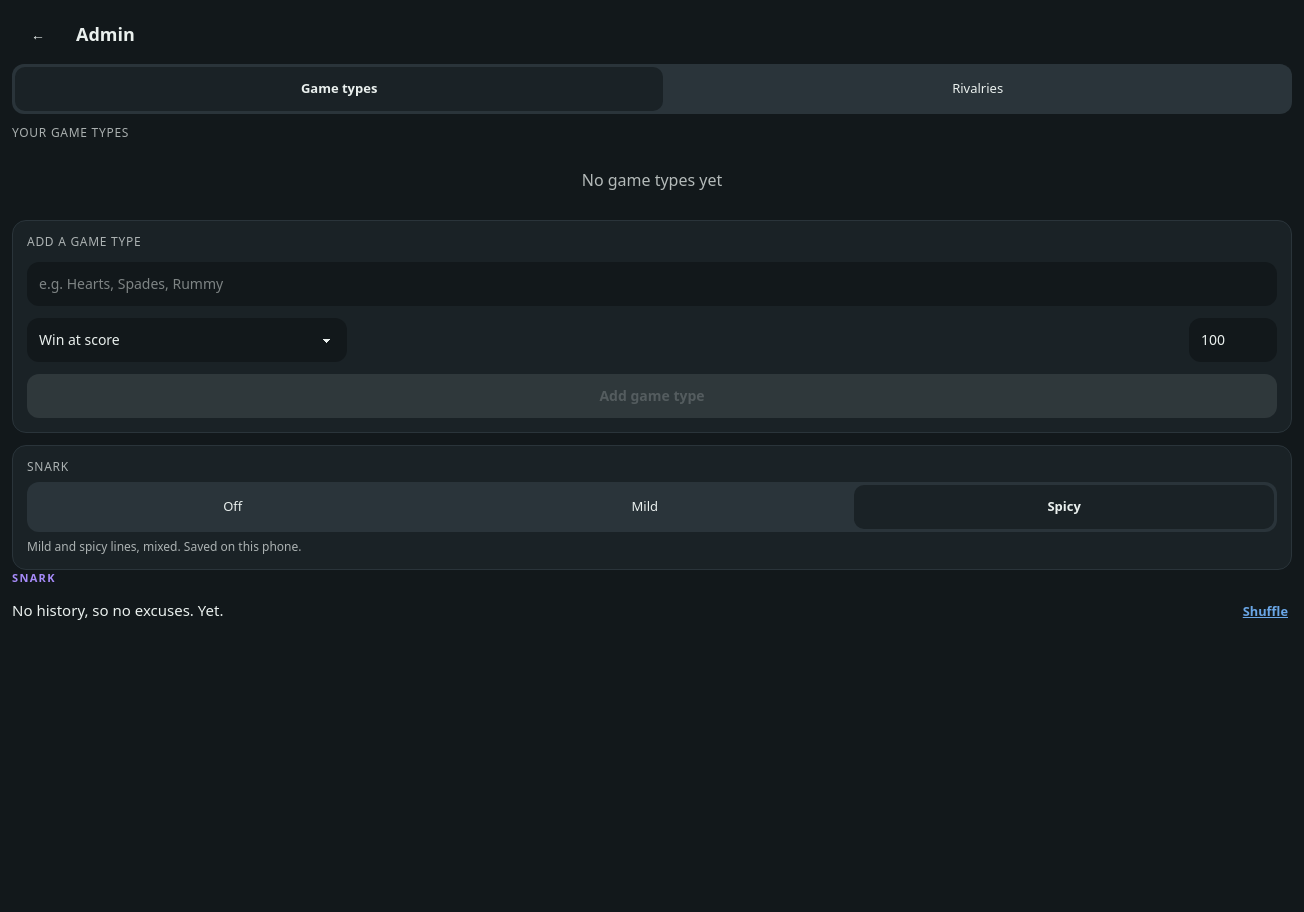
Test: Admin snark setting › changes the setting everywhere and saves it on the phone
The image size is (1304, 912).
What coordinates should you click on to do the following:
click the radio button labelled "Off"
I would click on:
 (233, 507)
Its box is top-left (30, 485), bottom-right (435, 529).
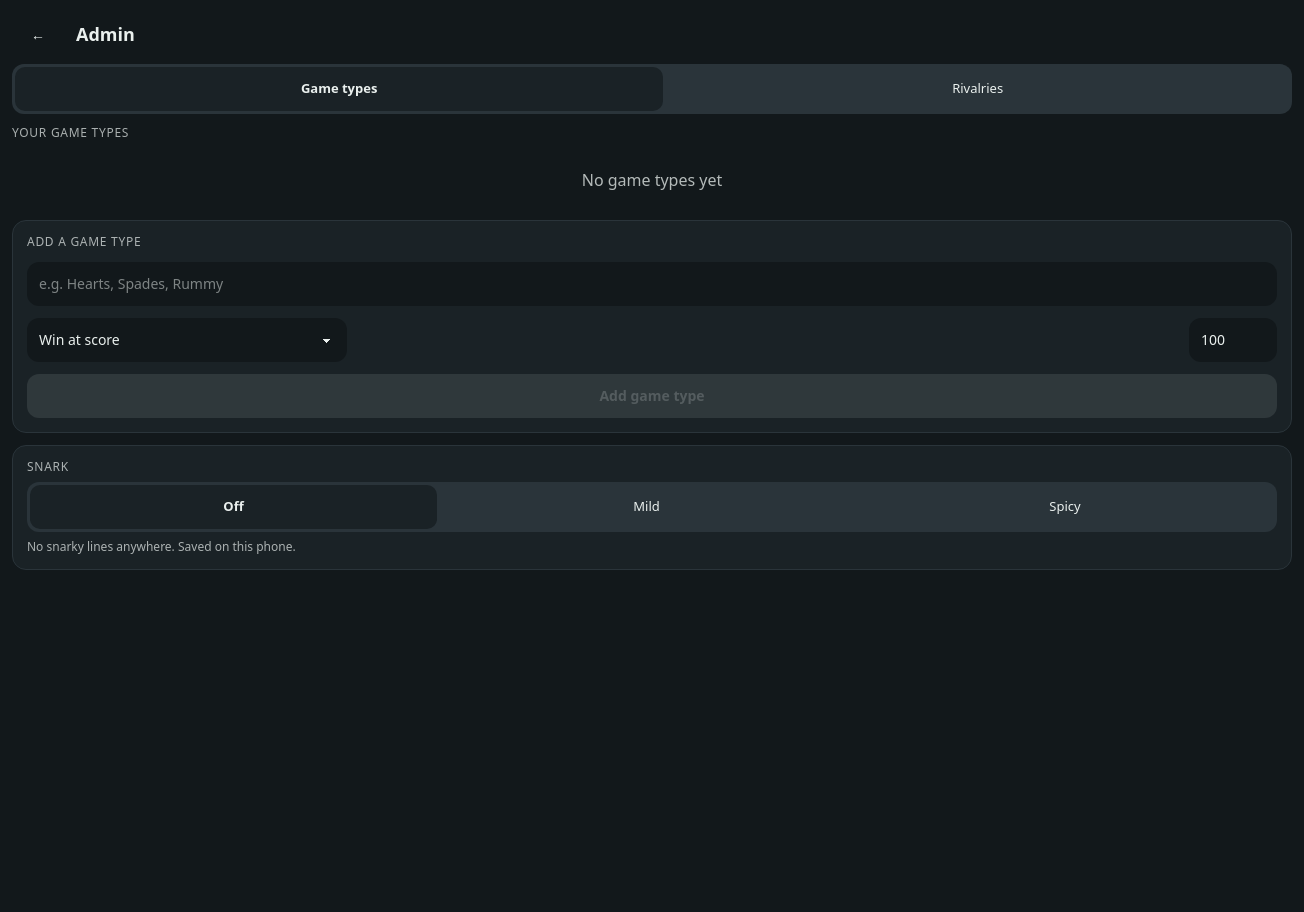
Expected: the element with test id "snark-line" is gone
What coordinates should you click on to do the following:
click the radio button labelled "Mild"
I would click on:
 (647, 507)
Its box is top-left (440, 485), bottom-right (853, 529).
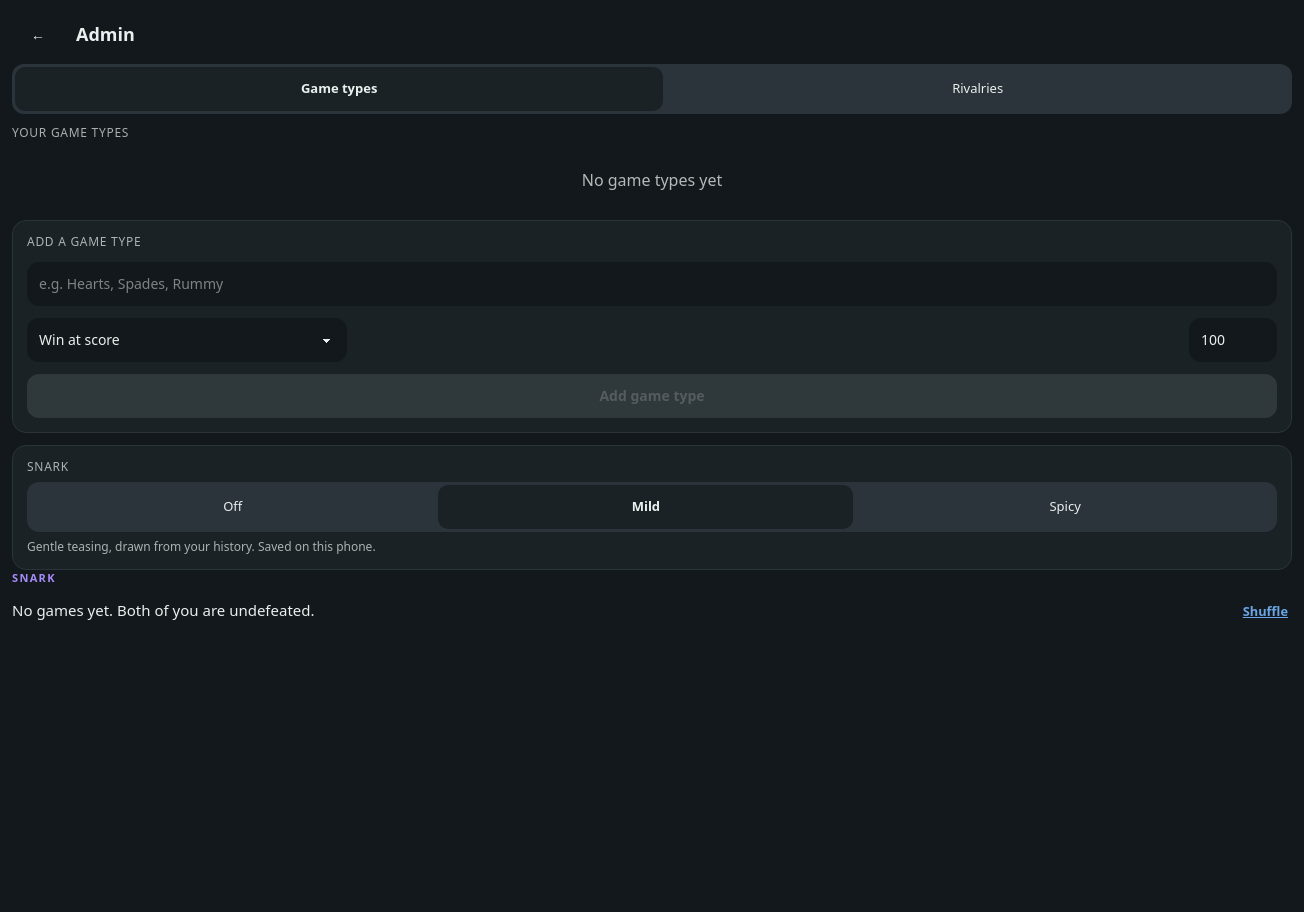
Expected: the element with test id "snark-line" is shown, top-left (12, 570), bottom-right (1292, 634)
